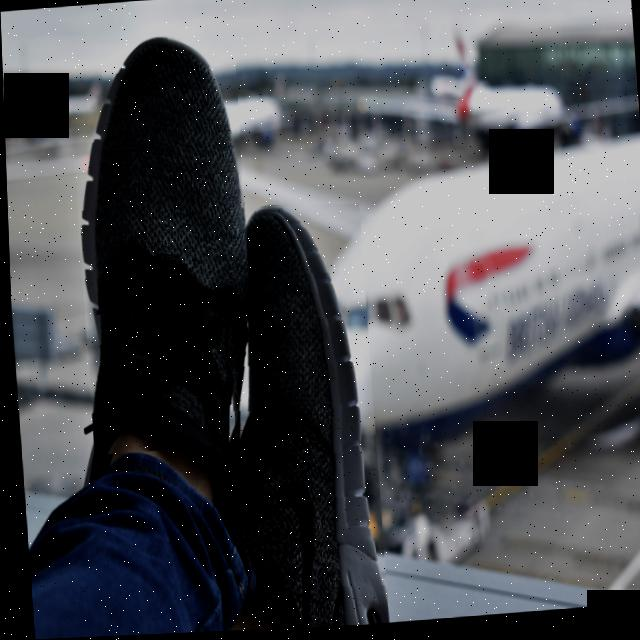shoe: (65, 30, 260, 456), (212, 200, 384, 633)
